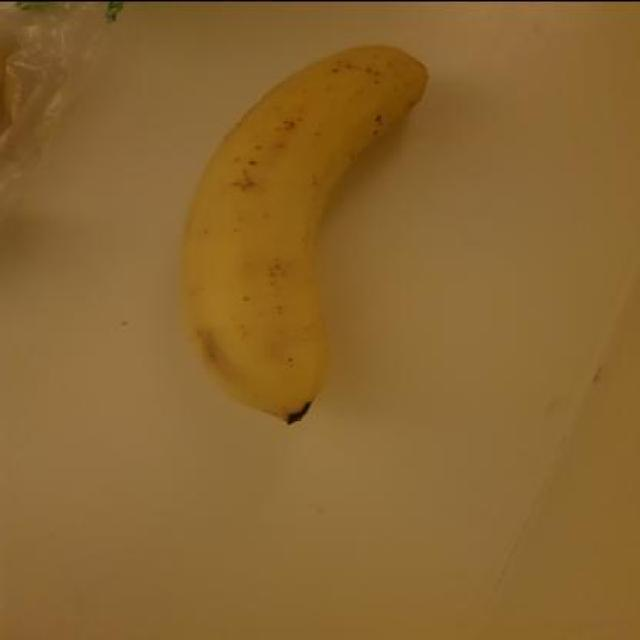Banana: (177, 33, 436, 424)
